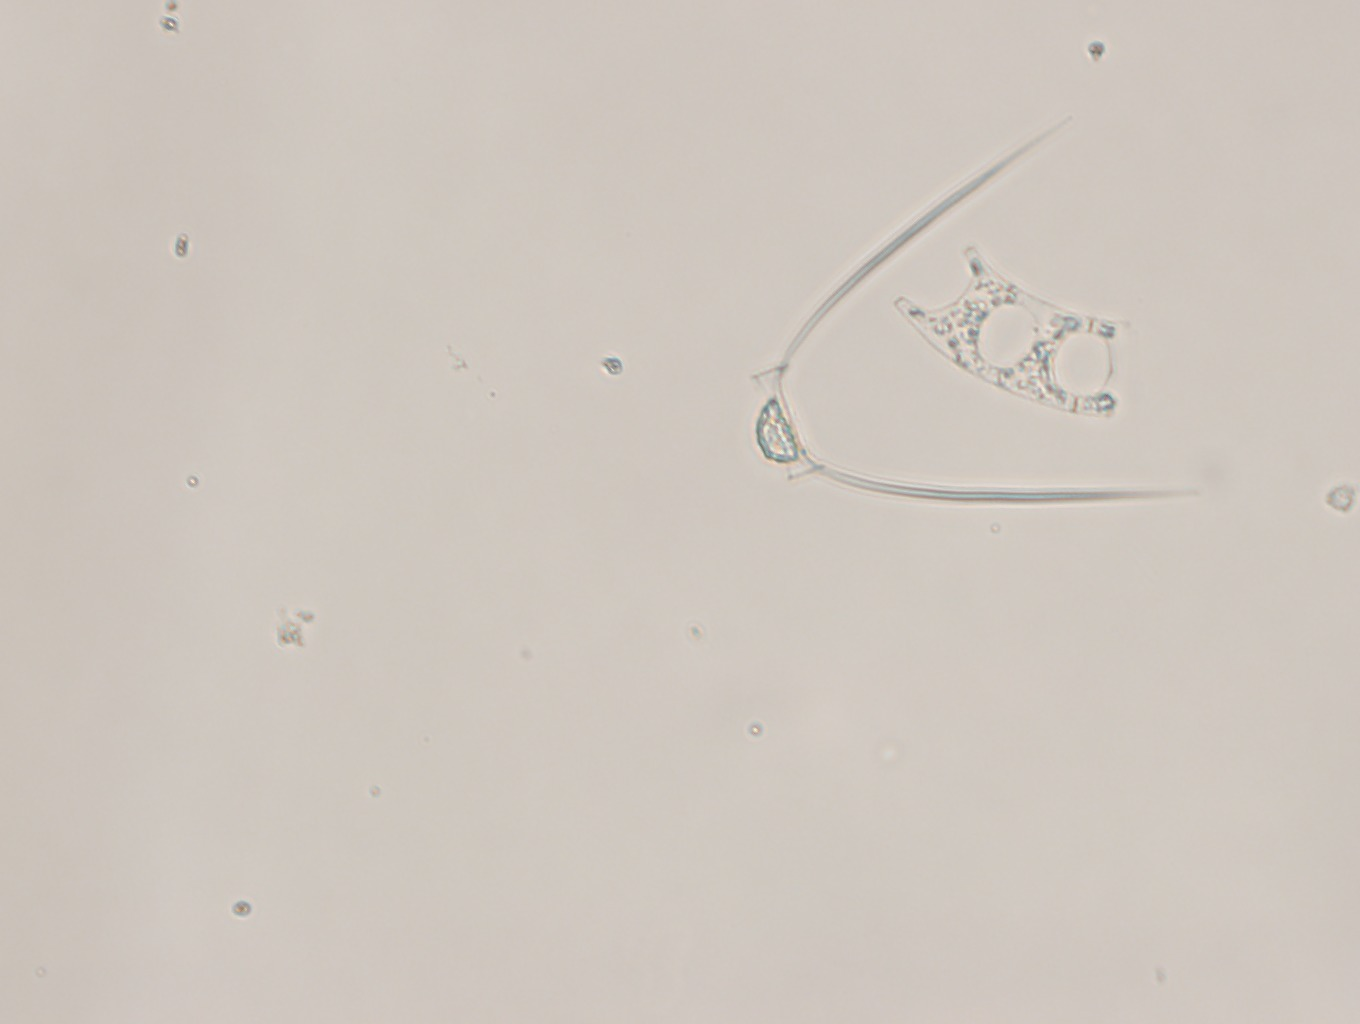chaetoceros: (746, 113, 1207, 507)
eucampia: (893, 245, 1133, 416)
